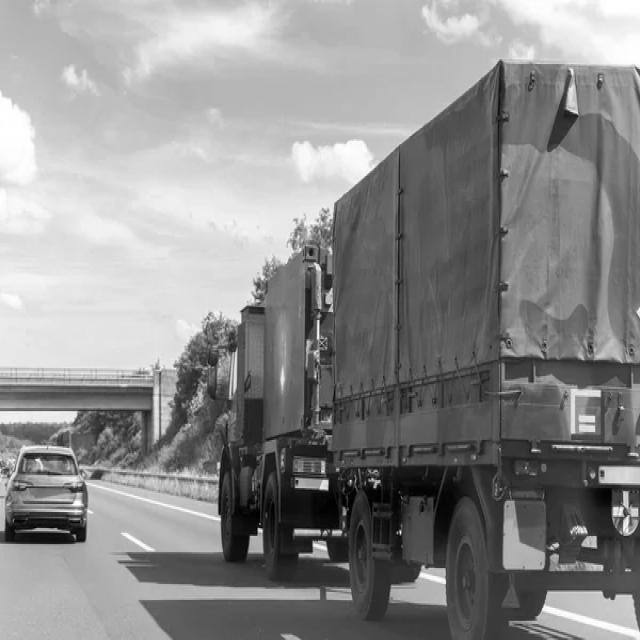Car: (6, 450, 88, 543)
Truck: (218, 60, 640, 639)
